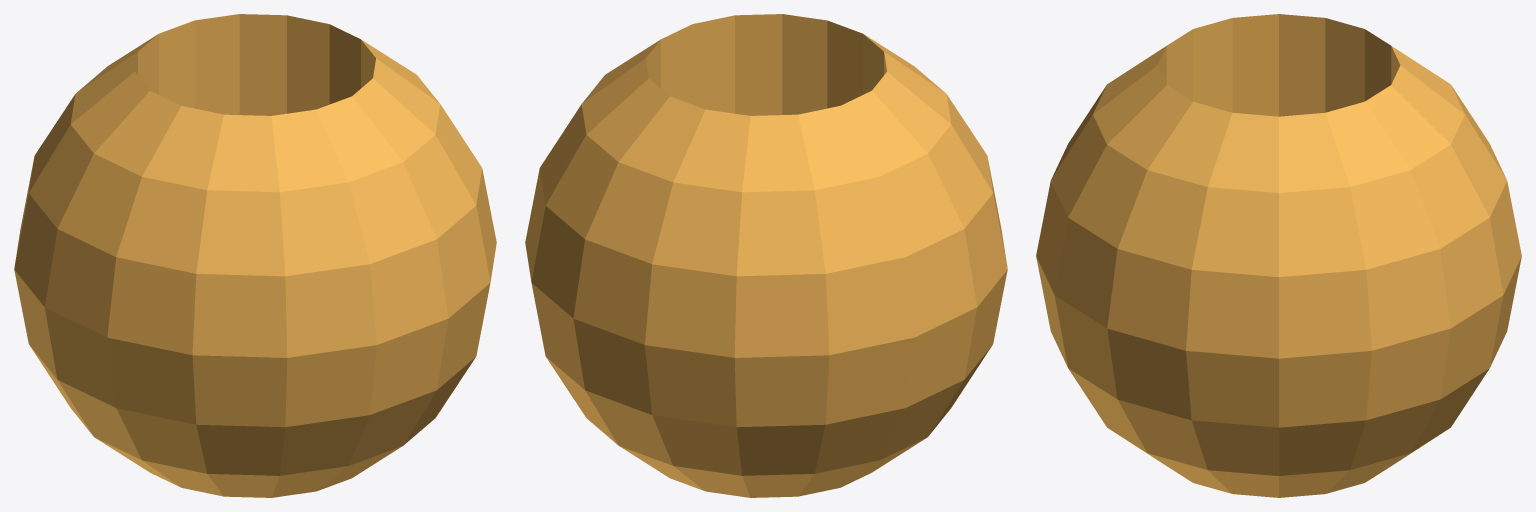
Rendered from Taq.fbx.
3 views of the same model, side by side, from view 1: azimuth 30°, elevation 25°; view 2: azimuth 150°, elevation 25°; view 3: azimuth 270°, elevation 25° (orthographic).
Visible parts, largest first — view 1: Taq; view 2: Taq; view 3: Taq.
Boxes of the visible parts, x1=… form: Taq: x1=14, y1=14, x2=496, y2=497; Taq: x1=525, y1=14, x2=1007, y2=497; Taq: x1=1036, y1=14, x2=1521, y2=497.
Size of the model in its own units: 0.16 by 0.1386 by 0.16.
